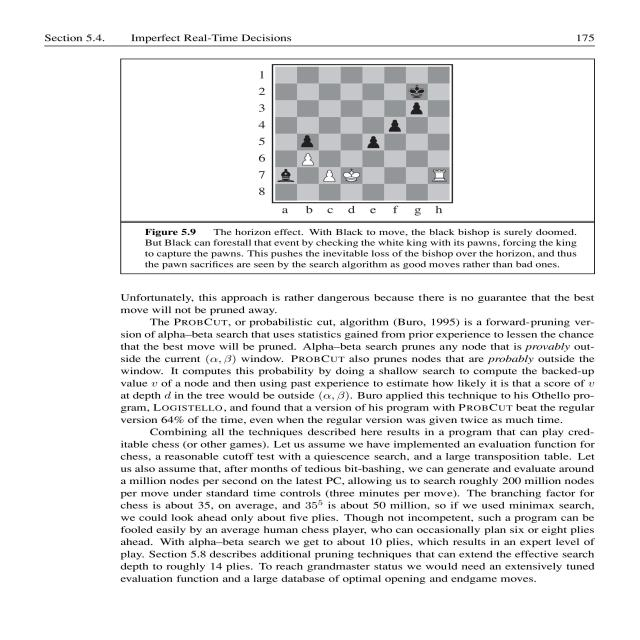diagram: (93, 47, 637, 279)
